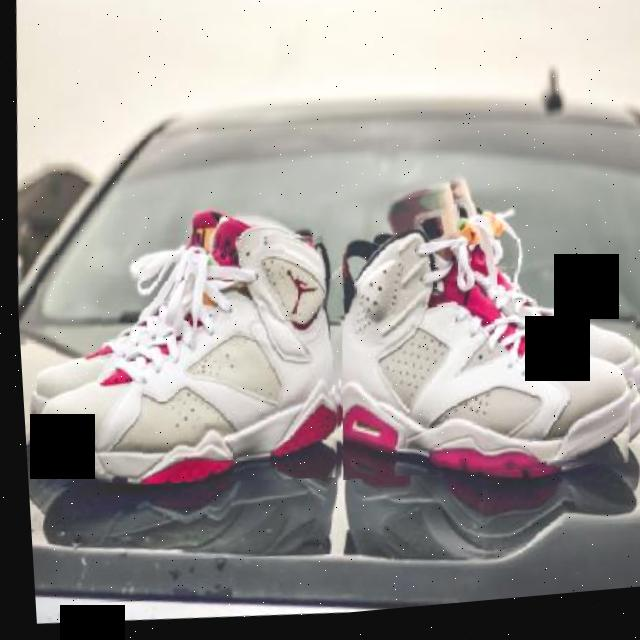shoe: (20, 221, 352, 505), (326, 231, 640, 502)
